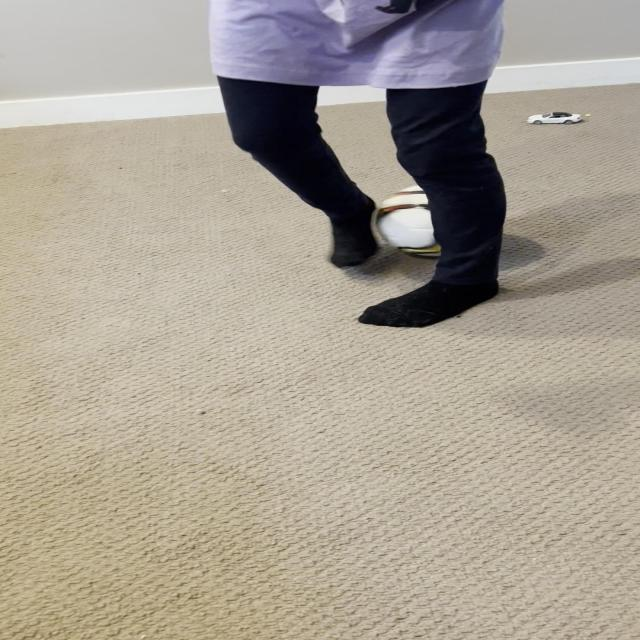Soccer Ball: (372, 180, 498, 258)
